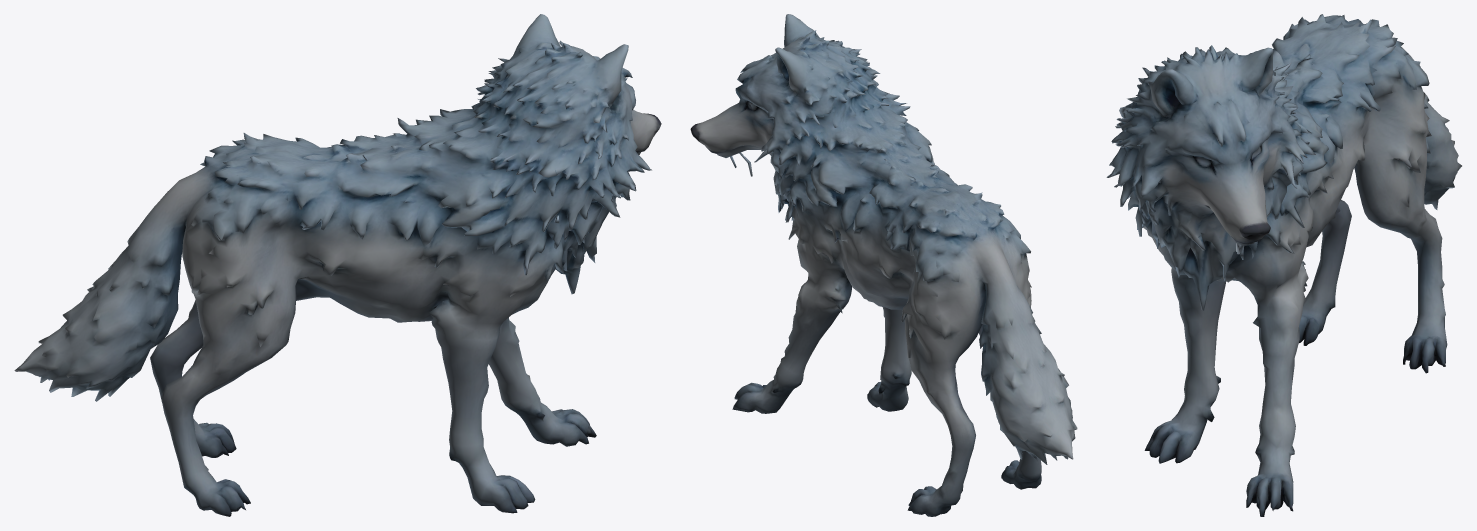
3 views of the same model, side by side, from view 1: azimuth 30°, elevation 25°; view 2: azimuth 150°, elevation 25°; view 3: azimuth 270°, elevation 25° (orthographic). The views are drawn at different scales.
Parts seen in each view (by area): view 1: tripo_node_d2f08cf6-9018-4703-b330-b43a26c2b43c; view 2: tripo_node_d2f08cf6-9018-4703-b330-b43a26c2b43c; view 3: tripo_node_d2f08cf6-9018-4703-b330-b43a26c2b43c.
Part boxes in pixels (x1=…): tripo_node_d2f08cf6-9018-4703-b330-b43a26c2b43c: x1=14, y1=14, x2=661, y2=516; tripo_node_d2f08cf6-9018-4703-b330-b43a26c2b43c: x1=690, y1=14, x2=1077, y2=516; tripo_node_d2f08cf6-9018-4703-b330-b43a26c2b43c: x1=1106, y1=14, x2=1461, y2=516.
Bounding box in the file's own units: 1 × 0.7573 × 0.5479.
1 material, 1 textured.
